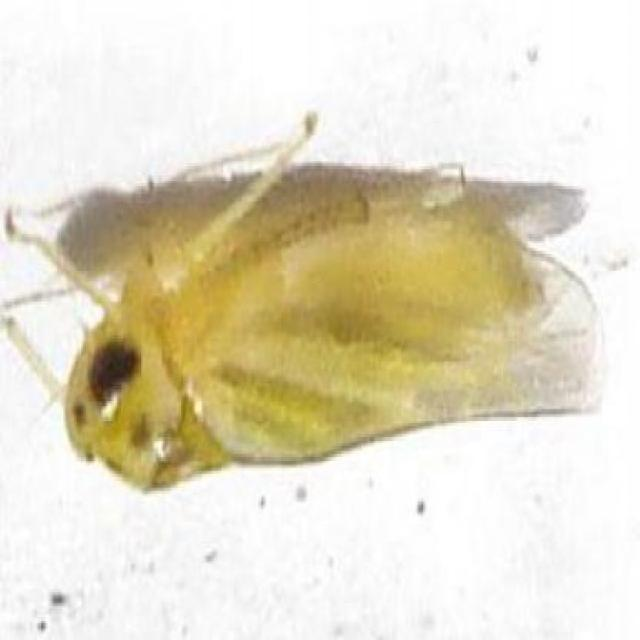green-leafhopper: (56, 173, 595, 475)
